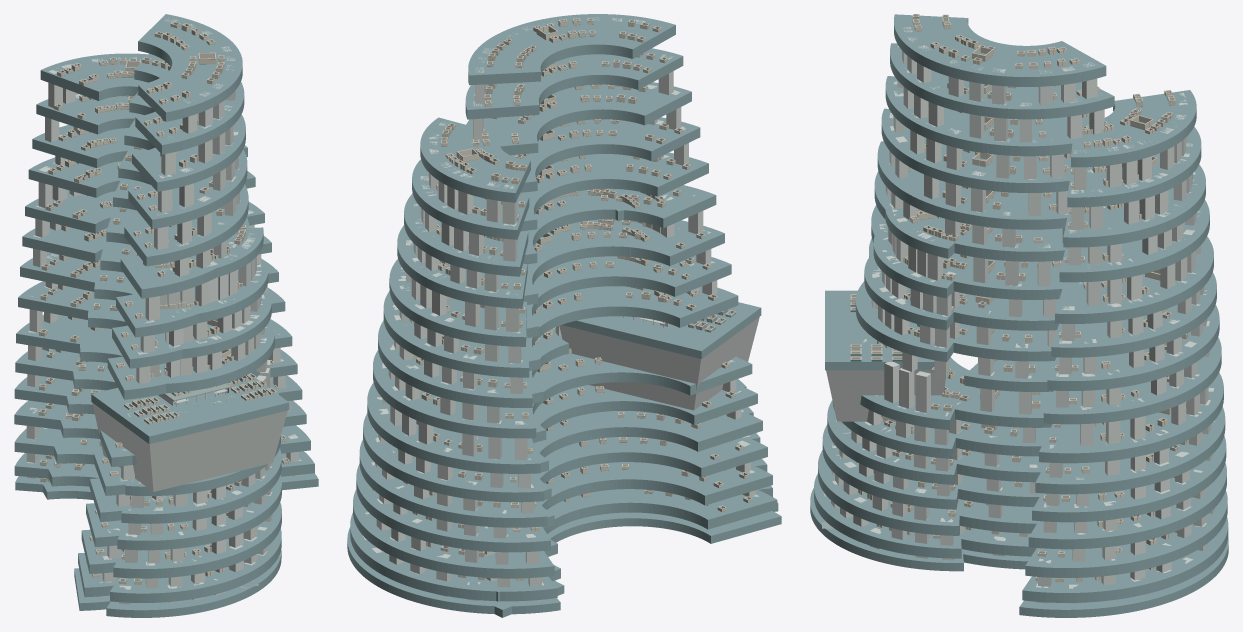
File: selected.glb
3 renders of one model, left to right at view 1: azimuth 30°, elevation 25°; view 2: azimuth 150°, elevation 25°; view 3: azimuth 270°, elevation 25°, orthographic. The views are drawn at different scales.
Parts seen in each view (by area): view 1: INHABITED_BACK_ROOMS_AND_CIVIC_PIERS, URBAN_COURTYARD_WINGS_LOW_DETAIL, FOCUS_SHARED_INHABITED_ROOT, FABRIC_GROUND_00_16, LOWER_DISTRICT_GROUND, FABRIC_GROUND_00_12, FABRIC_GROUND_00_13, FABRIC_GROUND_02_02, FABRIC_GROUND_02_01, FABRIC_GROUND_02_03, FABRIC_GROUND_00_14, FABRIC_GROUND_02_04 (+35 smaller); view 2: INHABITED_BACK_ROOMS_AND_CIVIC_PIERS, URBAN_COURTYARD_WINGS_LOW_DETAIL, FABRIC_GROUND_00_16, FOCUS_SHARED_INHABITED_ROOT, FABRIC_GROUND_00_14, FABRIC_GROUND_00_02, FABRIC_GROUND_00_15, FABRIC_GROUND_00_04, FABRIC_GROUND_00_03, FABRIC_GROUND_00_01, FABRIC_GROUND_00_12, FABRIC_GROUND_00_08 (+26 smaller); view 3: INHABITED_BACK_ROOMS_AND_CIVIC_PIERS, URBAN_COURTYARD_WINGS_LOW_DETAIL, FABRIC_GROUND_00_16, FABRIC_GROUND_01_06, FABRIC_GROUND_00_14, FABRIC_GROUND_01_14, FABRIC_GROUND_00_12, FABRIC_GROUND_00_15, FABRIC_GROUND_01_02, FABRIC_GROUND_00_13, FABRIC_GROUND_01_05, FABRIC_GROUND_01_01 (+34 smaller).
Boxes of the visible parts, <box> form: INHABITED_BACK_ROOMS_AND_CIVIC_PIERS: <box>26,18,301,604</box>; URBAN_COURTYARD_WINGS_LOW_DETAIL: <box>38,21,289,584</box>; FOCUS_SHARED_INHABITED_ROOT: <box>92,403,287,491</box>; FABRIC_GROUND_00_16: <box>138,14,242,121</box>; LOWER_DISTRICT_GROUND: <box>91,376,289,444</box>; FABRIC_GROUND_00_12: <box>118,146,248,266</box>; FABRIC_GROUND_00_13: <box>124,114,247,228</box>; FABRIC_GROUND_02_02: <box>113,502,281,578</box>; FABRIC_GROUND_02_01: <box>110,528,281,602</box>; FABRIC_GROUND_02_03: <box>117,475,281,550</box>; FABRIC_GROUND_00_14: <box>129,82,245,191</box>; FABRIC_GROUND_02_04: <box>121,448,281,523</box>; INHABITED_BACK_ROOMS_AND_CIVIC_PIERS: <box>363,17,759,601</box>; URBAN_COURTYARD_WINGS_LOW_DETAIL: <box>397,18,752,581</box>; FABRIC_GROUND_00_16: <box>468,14,675,85</box>; FOCUS_SHARED_INHABITED_ROOT: <box>559,317,759,410</box>; FABRIC_GROUND_00_14: <box>463,82,691,155</box>; FABRIC_GROUND_00_02: <box>480,462,772,566</box>; FABRIC_GROUND_00_15: <box>465,48,683,119</box>; FABRIC_GROUND_00_04: <box>481,411,762,507</box>; FABRIC_GROUND_00_03: <box>478,437,767,532</box>; FABRIC_GROUND_00_01: <box>478,489,777,601</box>; FABRIC_GROUND_00_12: <box>520,152,708,231</box>; FABRIC_GROUND_00_08: <box>527,286,738,370</box>; INHABITED_BACK_ROOMS_AND_CIVIC_PIERS: <box>824,27,1214,603</box>; URBAN_COURTYARD_WINGS_LOW_DETAIL: <box>855,14,1188,582</box>; FABRIC_GROUND_00_16: <box>894,14,1106,86</box>; FABRIC_GROUND_01_06: <box>1039,372,1223,463</box>; FABRIC_GROUND_00_14: <box>885,76,1123,156</box>; FABRIC_GROUND_01_14: <box>1071,90,1196,167</box>; FABRIC_GROUND_00_12: <box>877,141,1121,229</box>; FABRIC_GROUND_00_15: <box>890,43,1114,119</box>; FABRIC_GROUND_01_02: <box>1025,490,1227,577</box>; FABRIC_GROUND_00_13: <box>881,108,1122,192</box>; FABRIC_GROUND_01_05: <box>1035,407,1225,494</box>; FABRIC_GROUND_01_01: <box>1022,517,1228,602</box>.
Bounding box in the file's own units: 3795 × 5514 × 4200.
